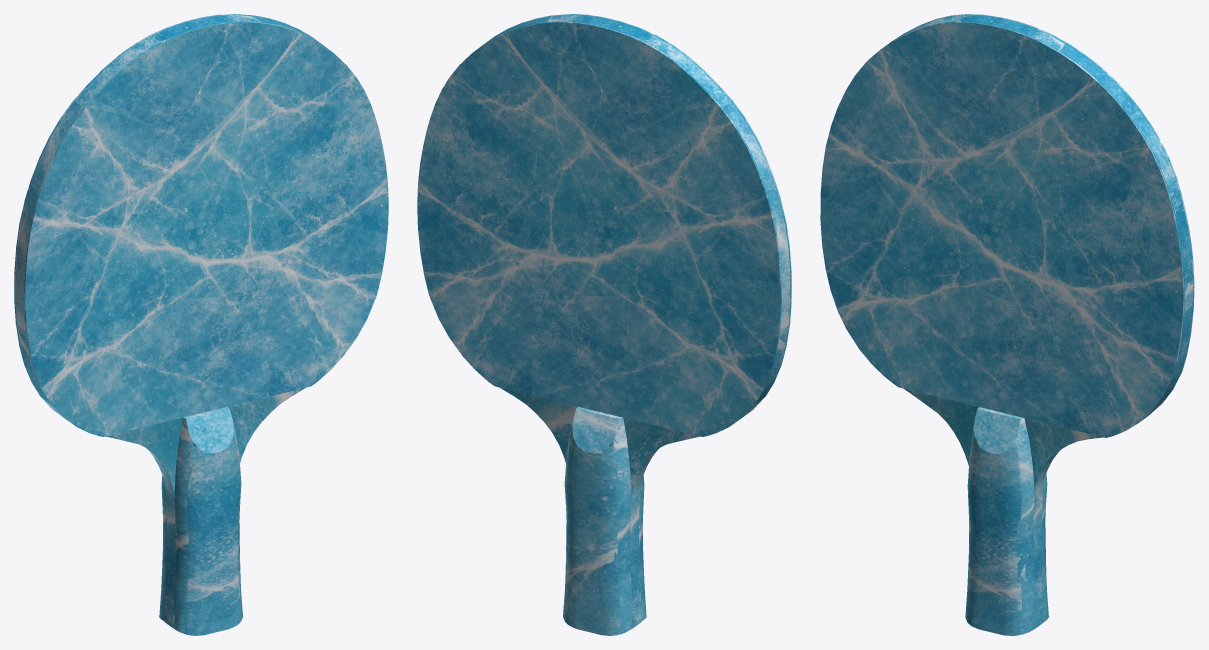
The model's file is Paleta_Hielo2.fbx.
3 views of the same model, side by side, from view 1: azimuth 30°, elevation 25°; view 2: azimuth 150°, elevation 25°; view 3: azimuth 330°, elevation 25° (orthographic).
Parts seen in each view (by area): view 1: Plastic clasic, Line032; view 2: Plastic clasic, Line032; view 3: Plastic clasic, Line032.
Part boxes in pixels (x1,y1,x2,y2): Plastic clasic: [14, 14, 388, 436]; Line032: [15, 15, 319, 635]; Plastic clasic: [417, 14, 791, 436]; Line032: [486, 15, 790, 635]; Plastic clasic: [820, 14, 1194, 437]; Line032: [883, 15, 1193, 635].
Size of the model in its own units: 14.7 by 23.11 by 2.21.
2 materials, 2 textured.
